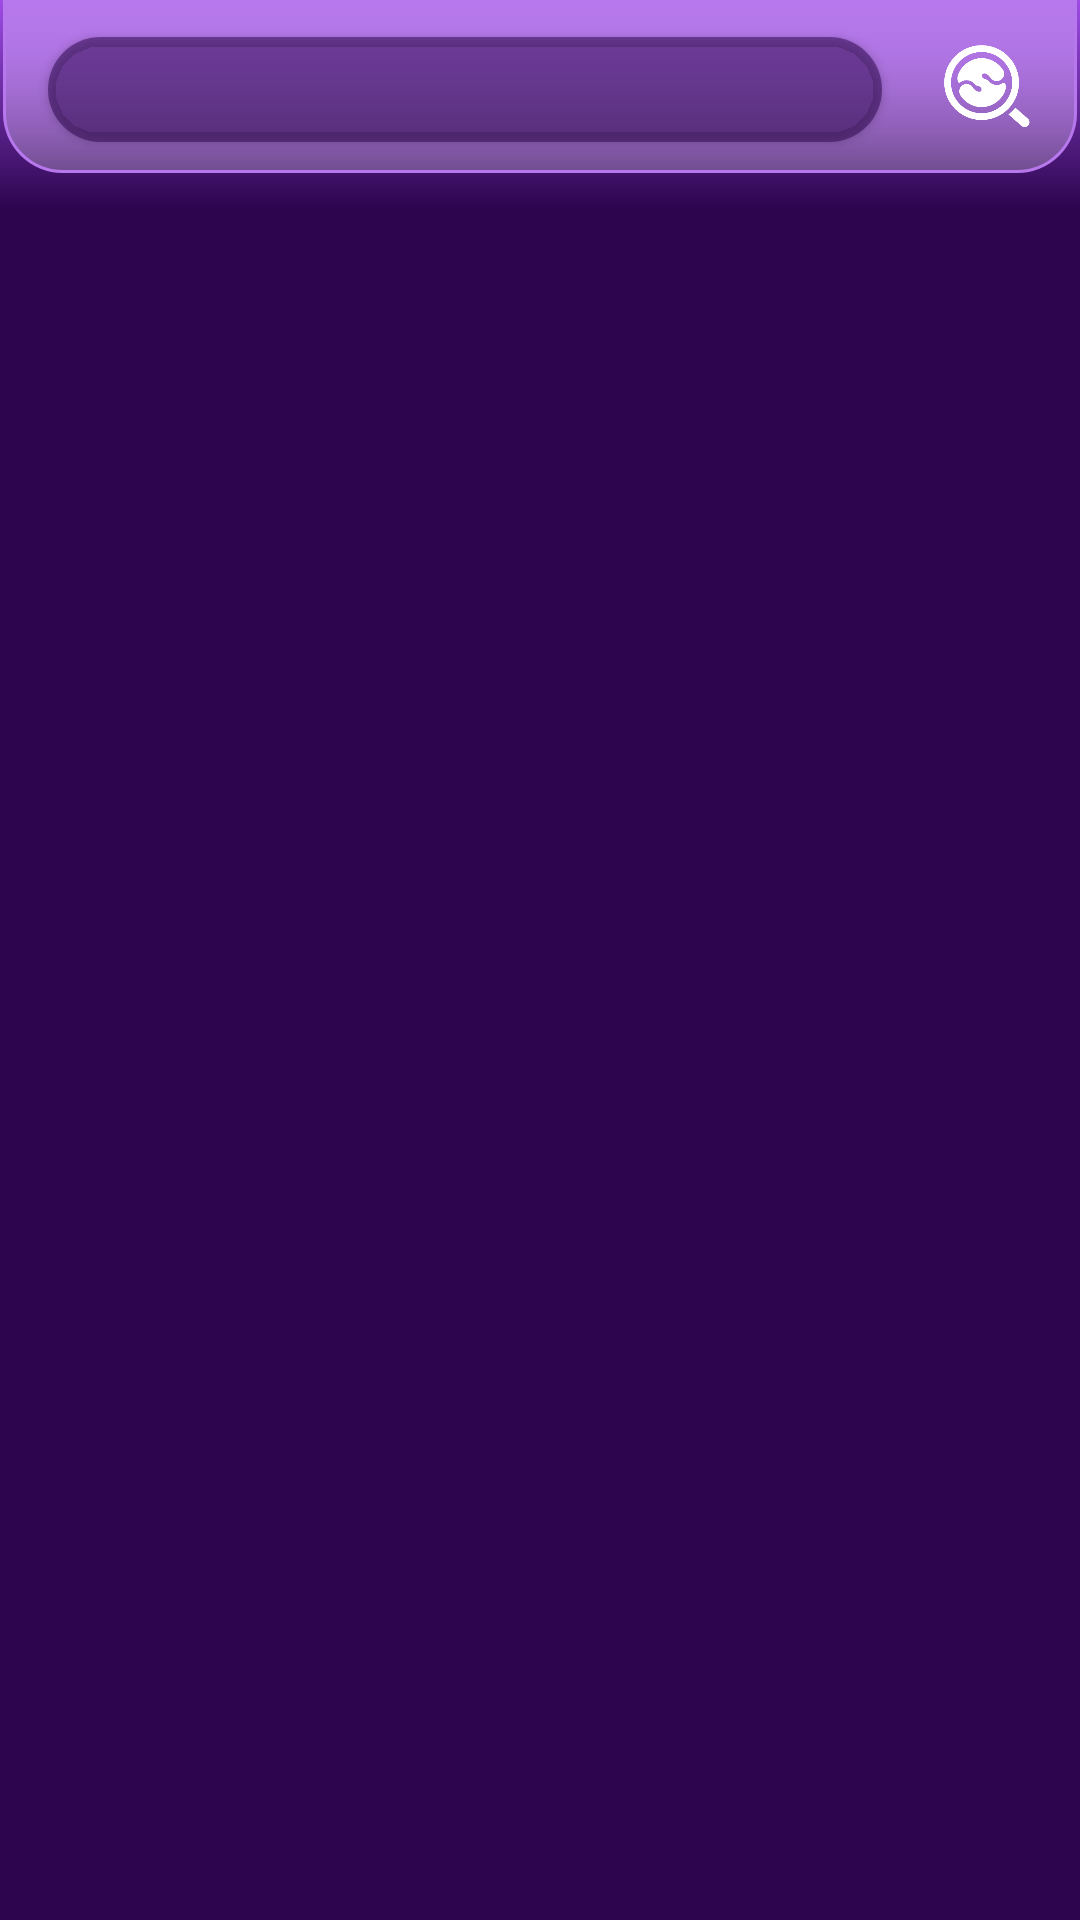

Named icons in this screenshot (1080w x 1920h) and their centers, (x=x, y=y):
search: (x=987, y=86)
